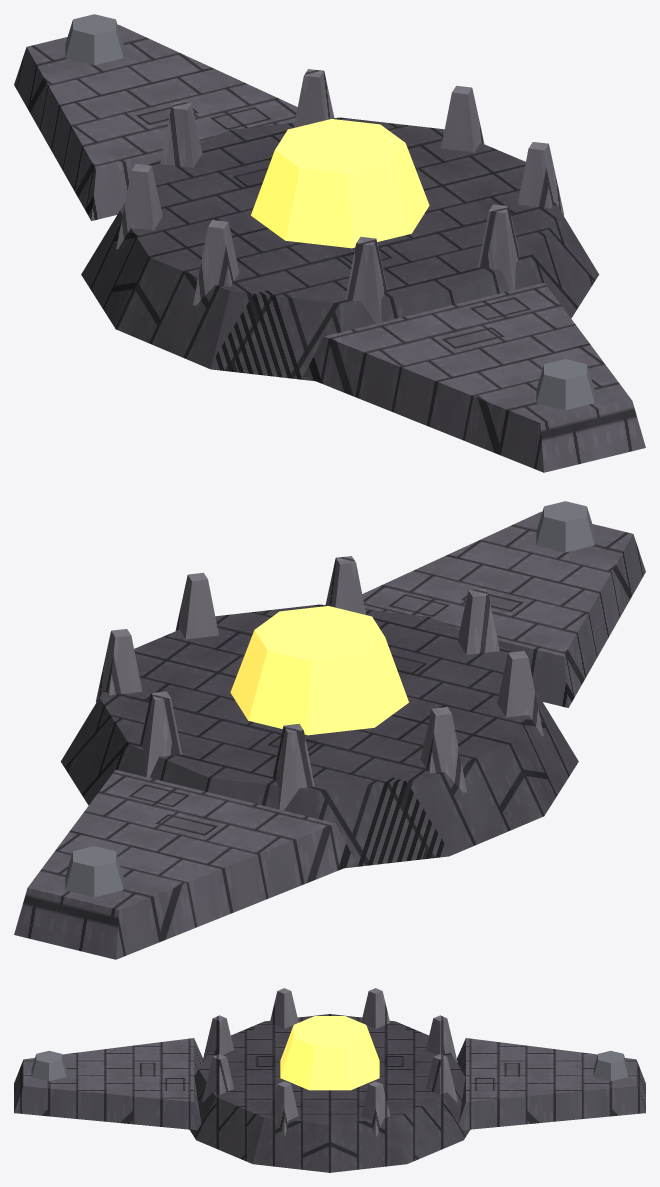
The model's file is crown_ember.glb.
3 views of the same model, one above another, from view 1: azimuth 30°, elevation 25°; view 2: azimuth 150°, elevation 25°; view 3: azimuth 270°, elevation 25° (orthographic). The views are drawn at different scales.
Bounding box in the file's own units: 44 × 12 × 90.
7 materials, 4 textured.
